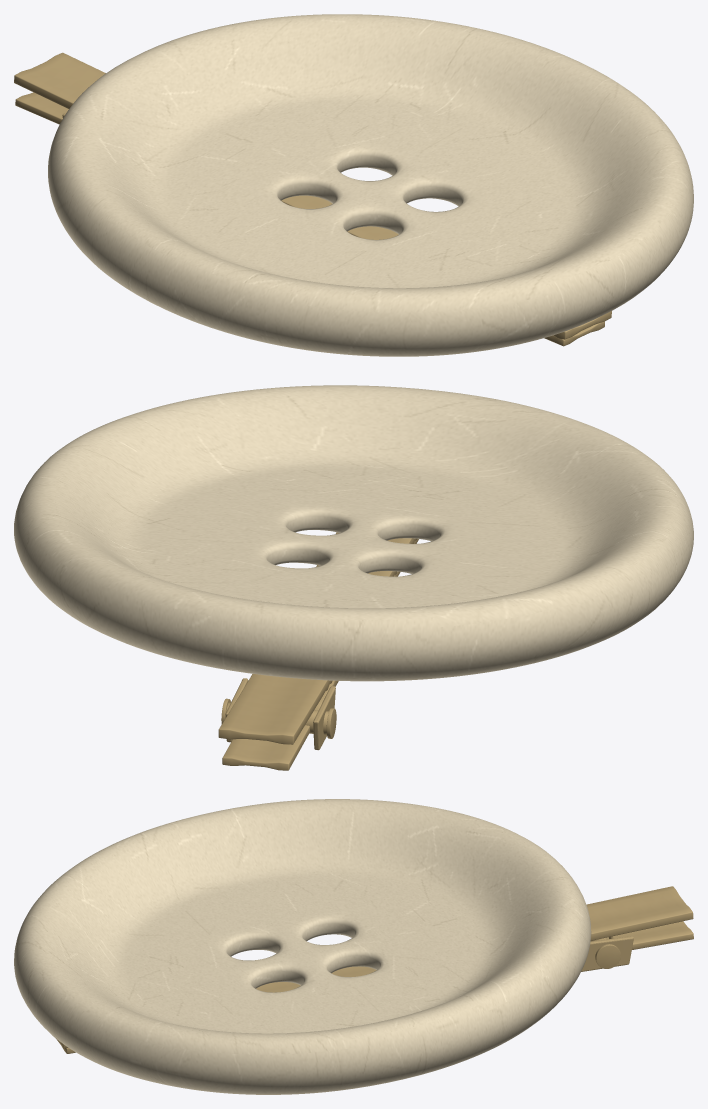
The model's file is HairClip_Paper.glb.
3 views of the same model, one above another, from view 1: azimuth 30°, elevation 25°; view 2: azimuth 150°, elevation 25°; view 3: azimuth 270°, elevation 25° (orthographic). The views are drawn at different scales.
Visible parts, largest first — view 1: HairClip_Paper__Pink_Four_Hole_Button, HairClip_Paper__Fixed_Serrated_Jaw, HairClip_Paper__Moving_Jaw_Static_Pose; view 2: HairClip_Paper__Pink_Four_Hole_Button, HairClip_Paper__Fixed_Serrated_Jaw, HairClip_Paper__Moving_Jaw_Static_Pose, HairClip_Paper__Pivot_Cheek_L; view 3: HairClip_Paper__Pink_Four_Hole_Button, HairClip_Paper__Fixed_Serrated_Jaw, HairClip_Paper__Moving_Jaw_Static_Pose, HairClip_Paper__Pivot_Cheek_R, HairClip_Paper__Pivot_Head_R.
Part boxes in pixels (x1,y1,x2,y2): HairClip_Paper__Pink_Four_Hole_Button: (48,14,693,356); HairClip_Paper__Fixed_Serrated_Jaw: (14,52,611,339); HairClip_Paper__Moving_Jaw_Static_Pose: (15,92,604,346); HairClip_Paper__Pink_Four_Hole_Button: (14,385,693,681); HairClip_Paper__Fixed_Serrated_Jaw: (218,532,416,744); HairClip_Paper__Moving_Jaw_Static_Pose: (222,539,418,770); HairClip_Paper__Pivot_Cheek_L: (313,686,335,750); HairClip_Paper__Pink_Four_Hole_Button: (14,799,591,1094); HairClip_Paper__Fixed_Serrated_Jaw: (58,886,693,1047); HairClip_Paper__Moving_Jaw_Static_Pose: (52,921,693,1053); HairClip_Paper__Pivot_Cheek_R: (581,936,633,971); HairClip_Paper__Pivot_Head_R: (595,944,620,968).
Size of the model in its own units: 39.87 by 8.22 by 46.89.
Materials: 2 (2 with a texture image).
